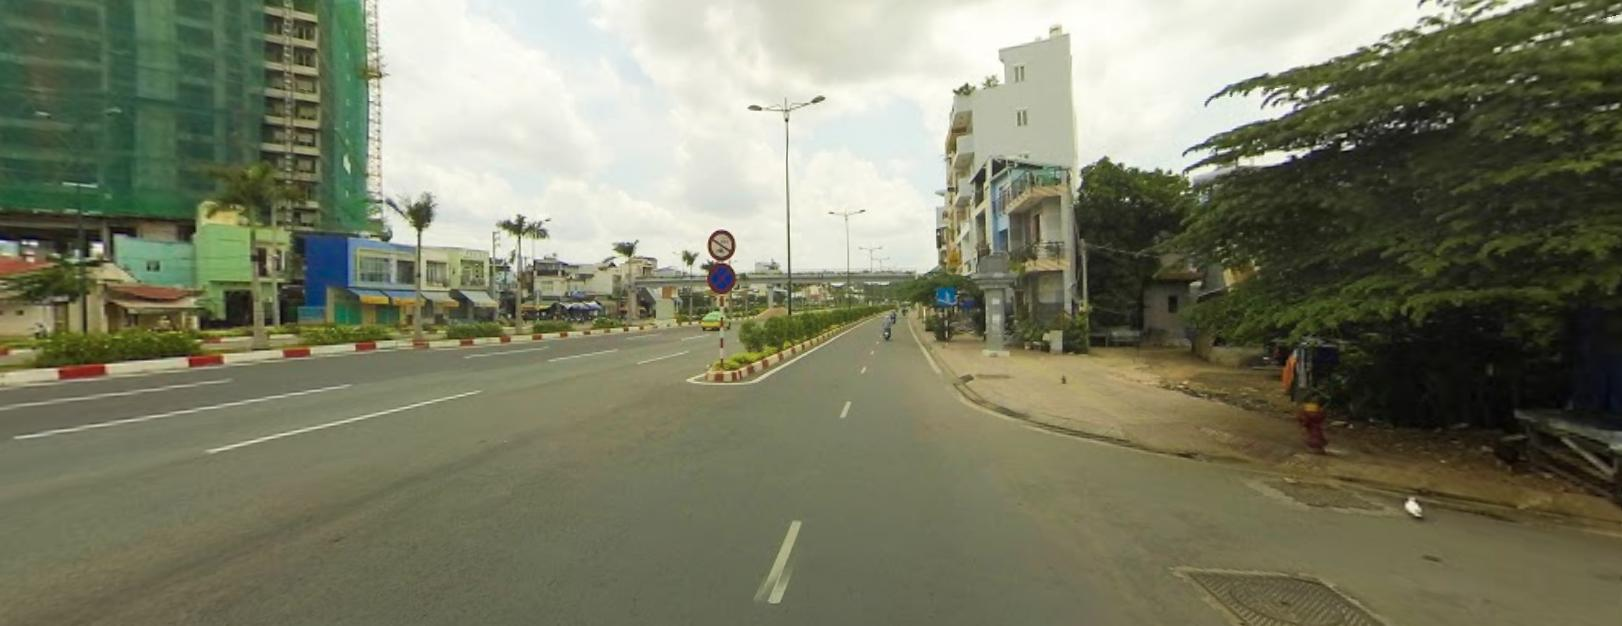Cam con lai: (705, 226, 736, 258)
Cam dung va do: (705, 260, 737, 294)
